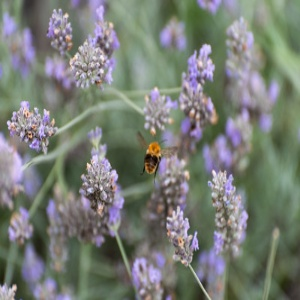bee: (137, 127, 176, 184)
